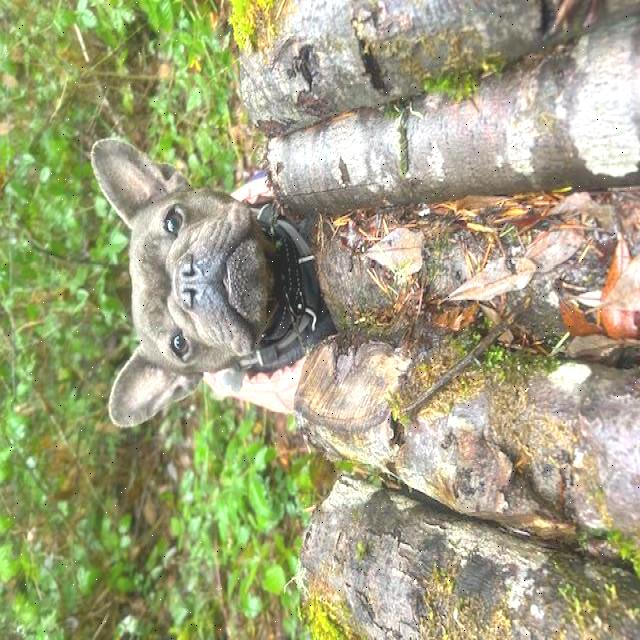french_bulldog_dog: (80, 115, 300, 458)
